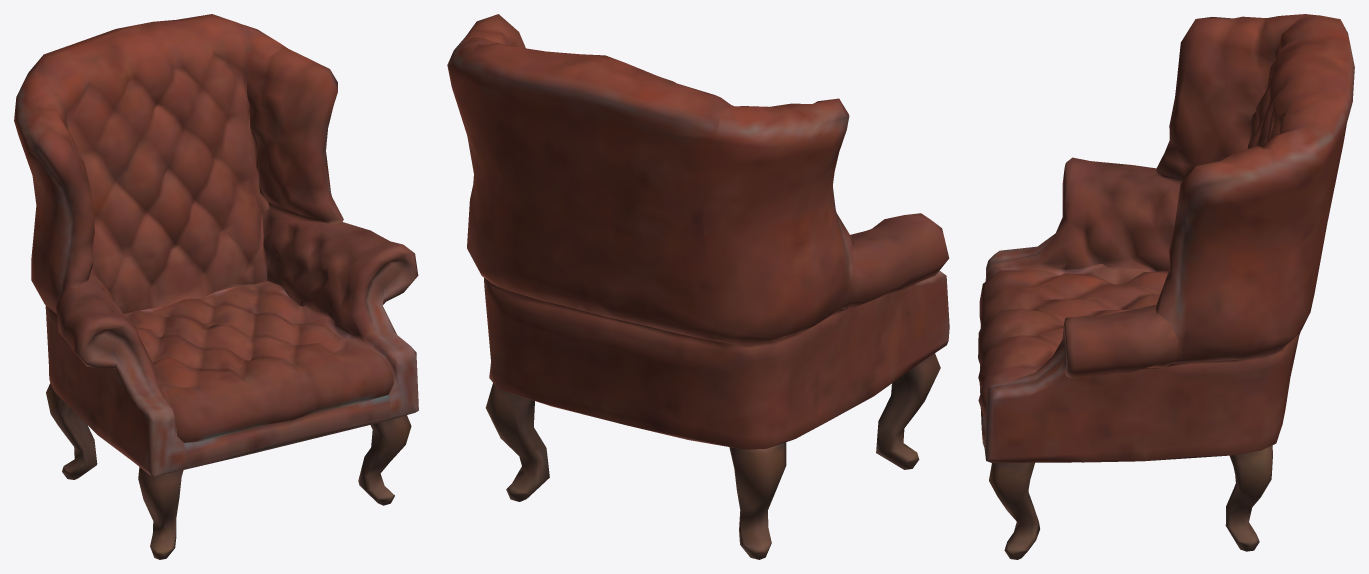
File: StructureBP_FancyChair_C.glb
3 views of the same model, side by side, from view 1: azimuth 30°, elevation 25°; view 2: azimuth 150°, elevation 25°; view 3: azimuth 270°, elevation 25° (orthographic). The views are drawn at different scales.
Visible parts, largest first — view 1: SM_FancyArmchair; view 2: SM_FancyArmchair; view 3: SM_FancyArmchair.
Boxes of the visible parts, x1=… form: SM_FancyArmchair: x1=14, y1=14, x2=418, y2=559; SM_FancyArmchair: x1=447, y1=14, x2=949, y2=559; SM_FancyArmchair: x1=978, y1=14, x2=1354, y2=559.
Bounding box in the file's own units: 1.18 × 1.32 × 1.01.
1 material, 1 textured.
